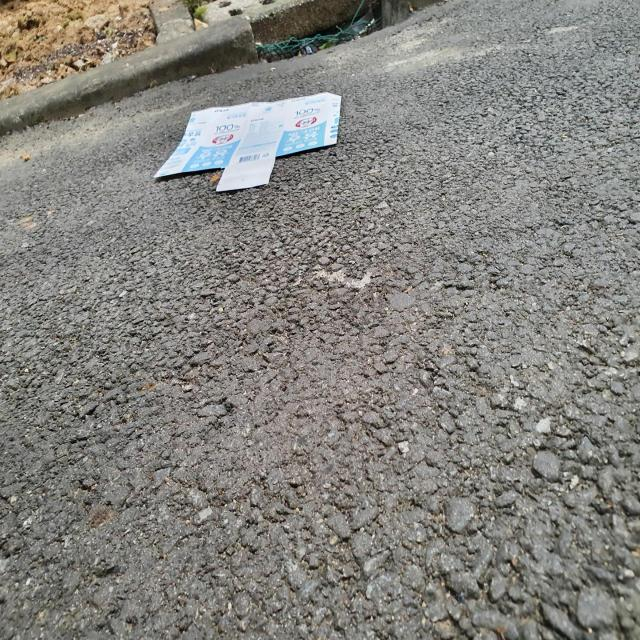paperpack: (154, 92, 341, 191)
